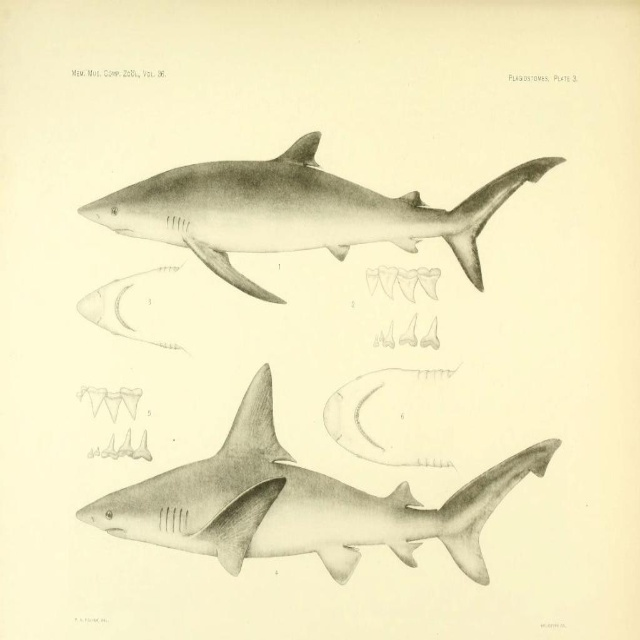Shark: (72, 360, 558, 587), (80, 129, 568, 292)
